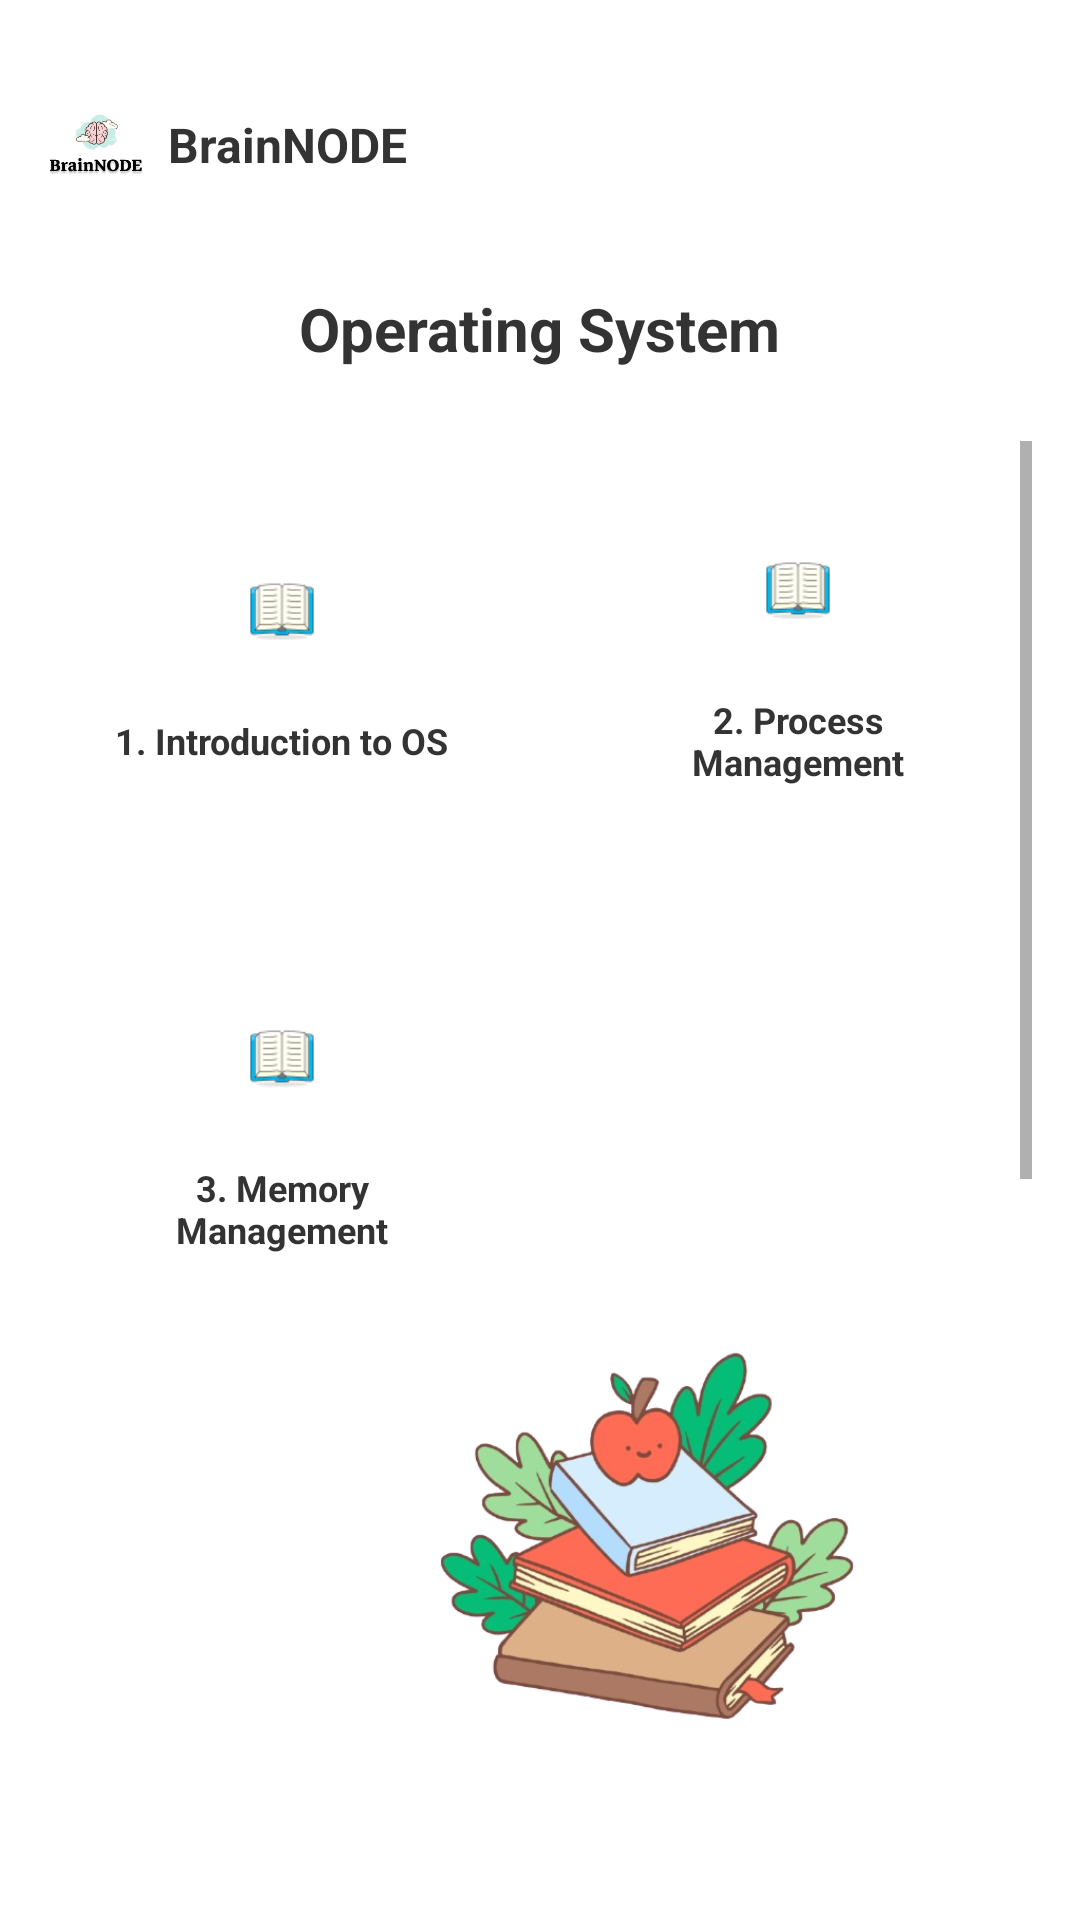

Screen size 1080 × 1920. Icon name, then its center in pixels as (x=x, y=y):
lesson card: (x=798, y=590), (x=282, y=611), (x=282, y=1058)
